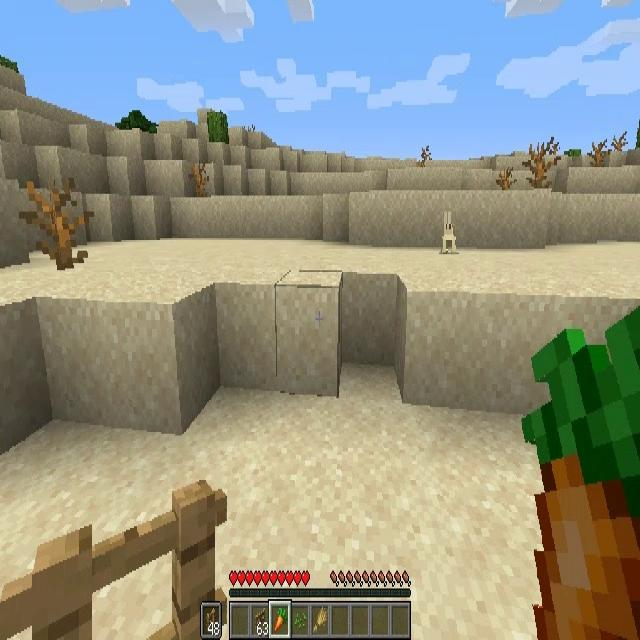rabbit: (442, 211, 456, 254)
